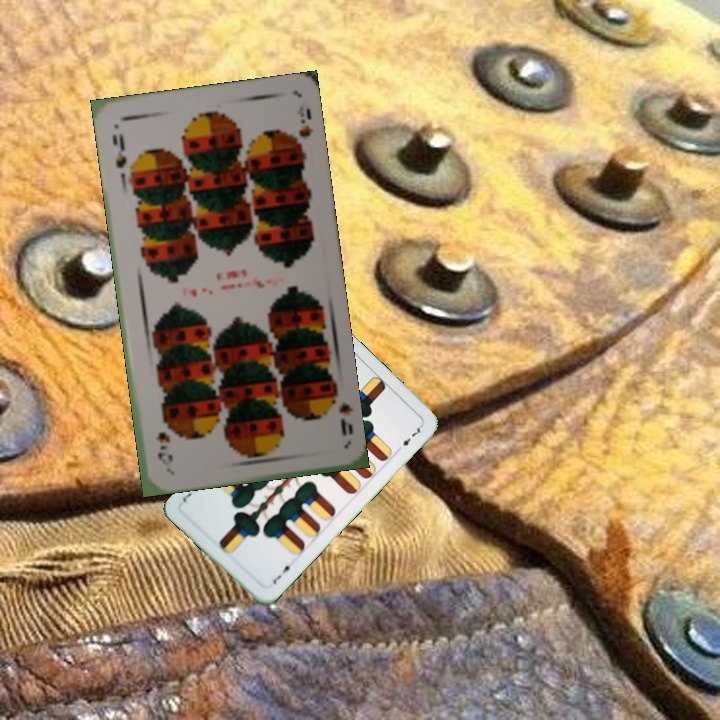E7: (269, 560, 296, 587)
S9: (324, 385, 356, 438), (108, 129, 130, 171)
